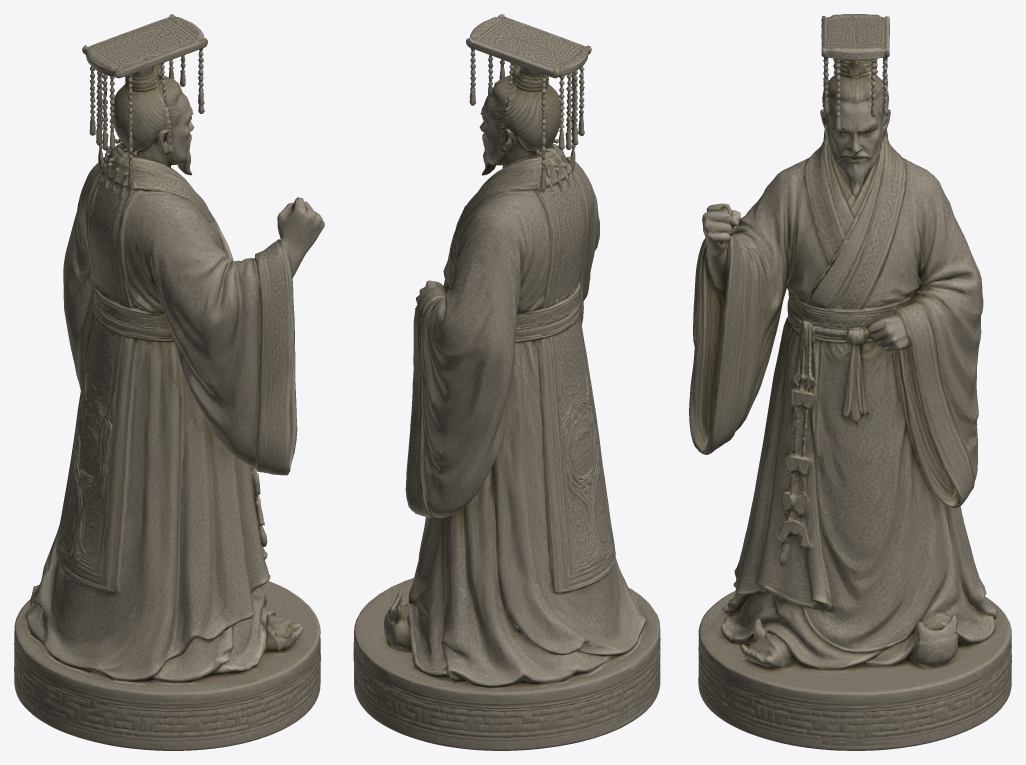
The model's file is ancient_chinese_statue_3d_model_2.fbx.
3 renders of one model, left to right at view 1: azimuth 30°, elevation 25°; view 2: azimuth 150°, elevation 25°; view 3: azimuth 270°, elevation 25°, orthographic.
Parts seen in each view (by area): view 1: tripo_node_ddeb2f02; view 2: tripo_node_ddeb2f02; view 3: tripo_node_ddeb2f02.
Part boxes in pixels (x1,y1,x2,y2): tripo_node_ddeb2f02: (14,14,324,750); tripo_node_ddeb2f02: (353,14,660,750); tripo_node_ddeb2f02: (689,14,1011,750).
Size of the model in its own units: 0.4126 by 0.9788 by 0.4397.
